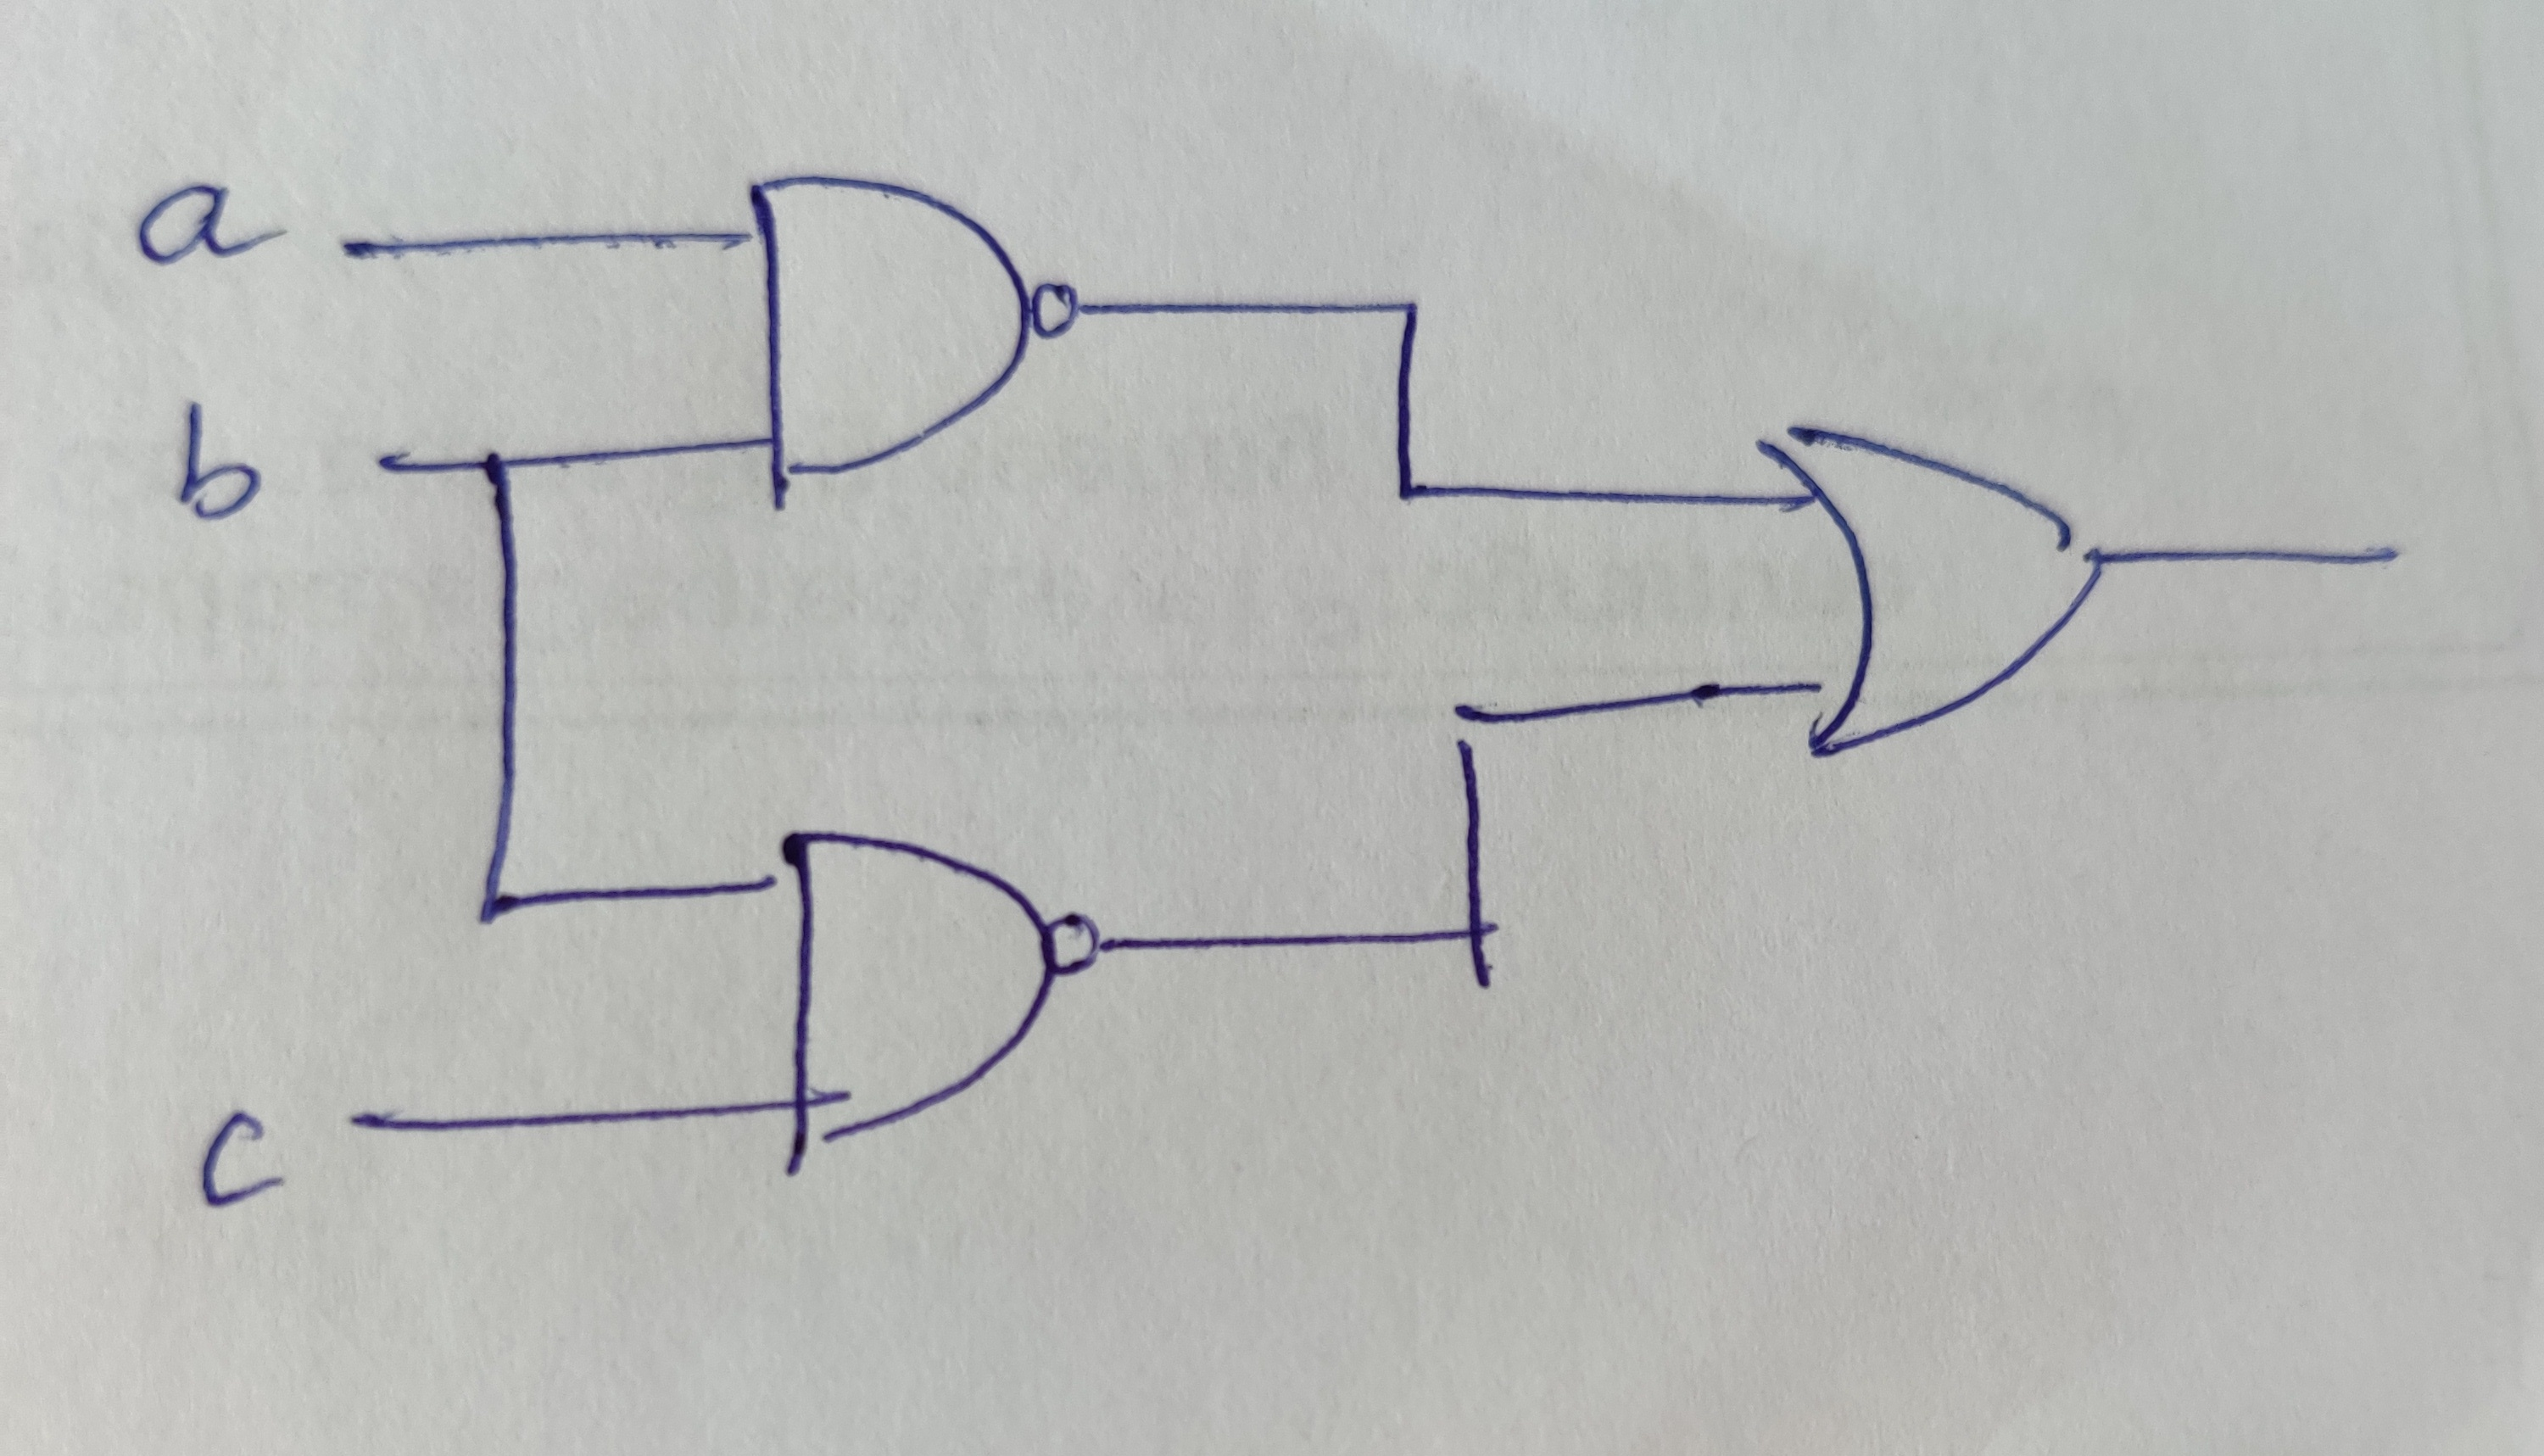nand: (737, 769, 1134, 1204), (702, 87, 1096, 521)
or: (1725, 292, 2154, 869)
